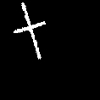single_crochet: (14, 3, 45, 58)
